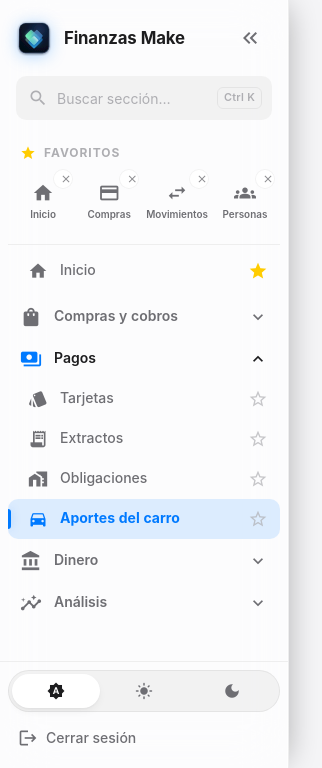
Test: MenuComponent › escritorio (barra lateral) › colapsar pasa al modo compacto y recuerda la preferencia
Step 1. Click the button with class "icono-btn" → (250, 38), box top-left (228, 16), bottom-right (272, 60)
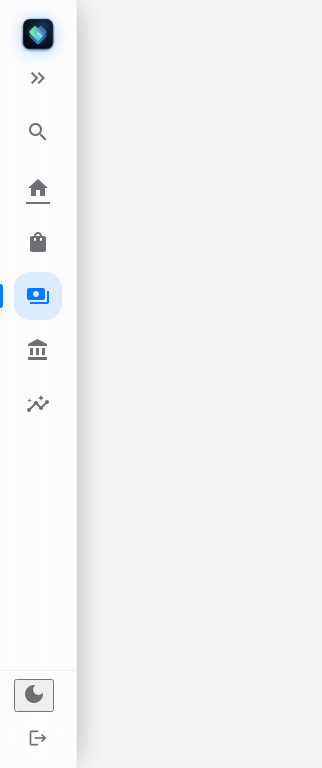
Check: the navigation bar with class "nav--compacto" is shown, box top-left (0, 0), bottom-right (77, 767)
